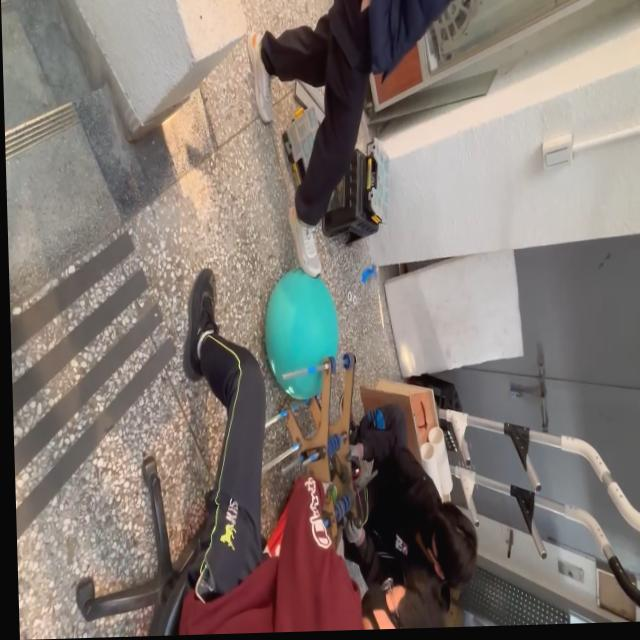ALGAE: (261, 265, 341, 403)
